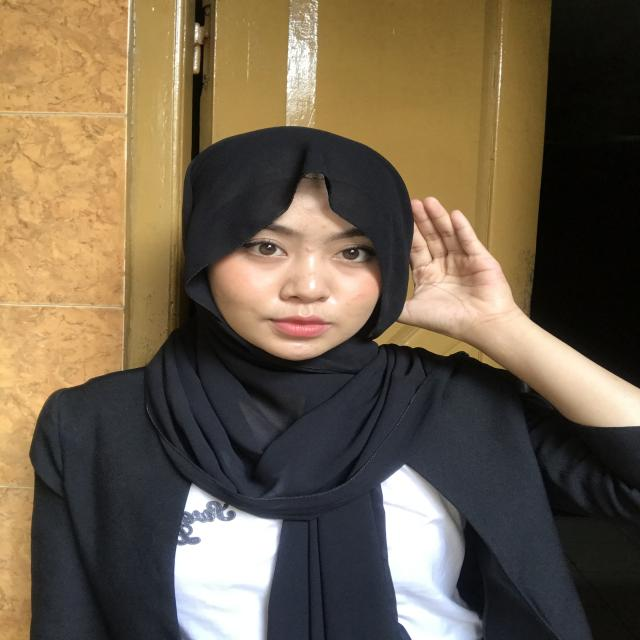mendengar: (386, 197, 530, 346)
